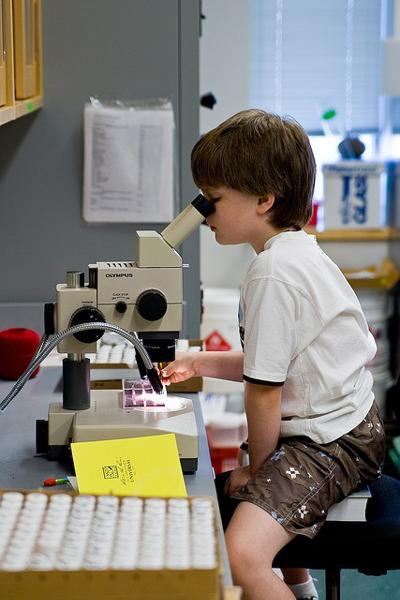person: (162, 110, 385, 600)
